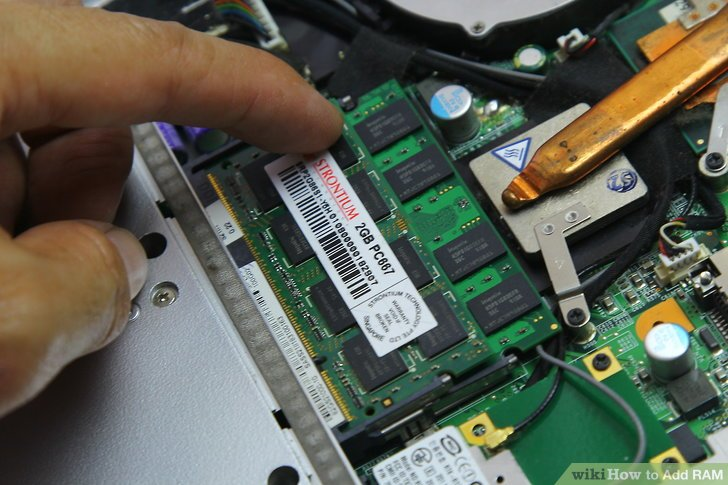ram: (220, 53, 526, 411)
